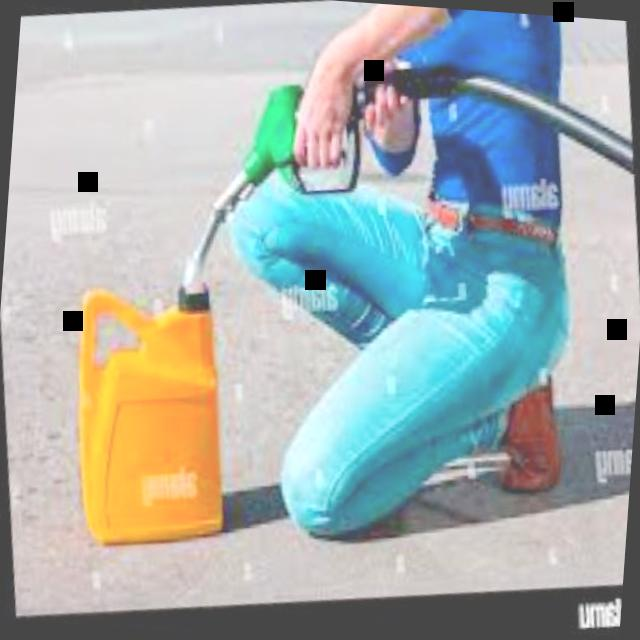chemical_plastic_gallon: (48, 257, 249, 559)
